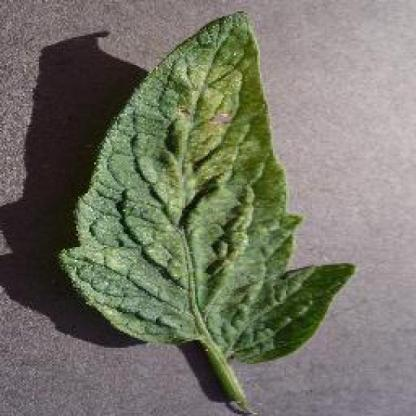Tomato_Spider_Mites: (58, 12, 353, 362)
